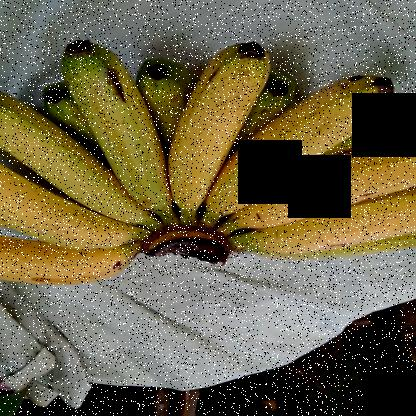freshripe: (245, 134, 415, 238), (1, 161, 122, 255)
ripe: (218, 78, 398, 216), (48, 30, 172, 213), (173, 40, 271, 215), (258, 199, 415, 262), (1, 222, 122, 295)
